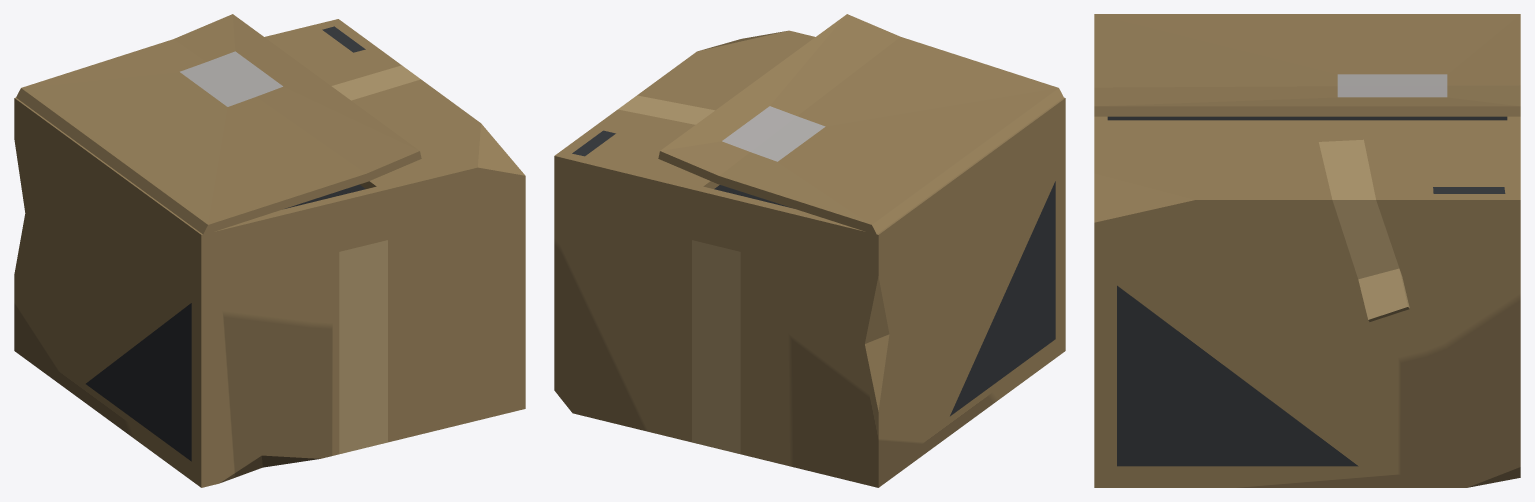
File: SM_Prop_CardboardBox_04.fbx
3 views of the same model, side by side, from view 1: azimuth 30°, elevation 25°; view 2: azimuth 150°, elevation 25°; view 3: azimuth 270°, elevation 25° (orthographic). The views are drawn at different scales.
Parts seen in each view (by area): view 1: SM_Prop_CardboardBox_04; view 2: SM_Prop_CardboardBox_04; view 3: SM_Prop_CardboardBox_04.
Part boxes in pixels (box(x1,y1,x2,y2)): SM_Prop_CardboardBox_04: box(14, 14, 525, 487); SM_Prop_CardboardBox_04: box(554, 14, 1065, 487); SM_Prop_CardboardBox_04: box(1094, 14, 1520, 487).
Bounding box in the file's own units: 52.36 × 41.77 × 49.94.
Materials: 1 (1 with a texture image).
